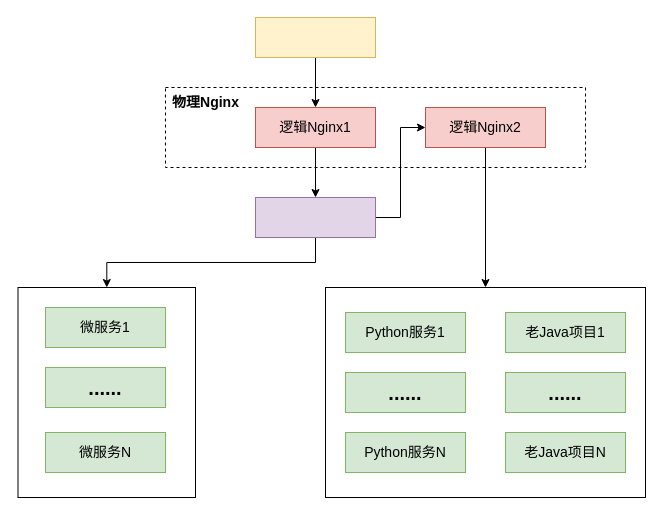
Image size: 663x515. Some labels were removed from this diagram. The shapes that lost their labels are listed below. From the top down, each one's box as (x1, y1, x2, y2) in pixels, then its label:
(254, 16, 376, 58): 请求
(254, 196, 376, 238): Java网关
